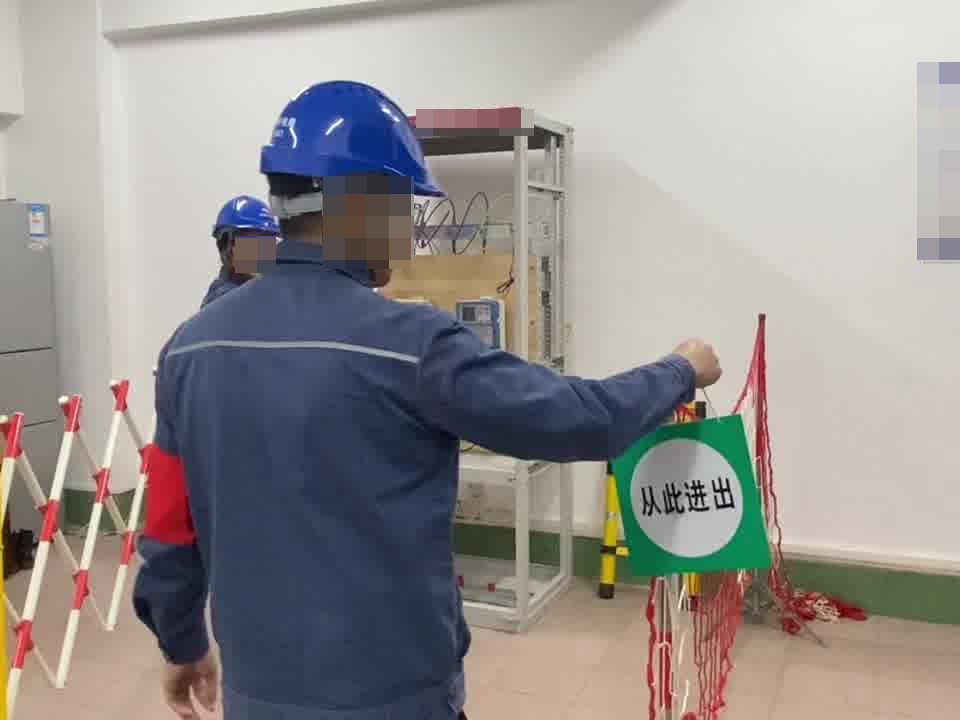badge: (136, 438, 197, 545)
halt: (254, 83, 447, 278), (209, 193, 283, 281)
hand: (162, 648, 220, 720), (676, 336, 725, 393)
inear: (321, 176, 401, 259), (217, 232, 239, 267)
intosign: (611, 413, 777, 578)
person: (130, 78, 728, 719), (205, 192, 286, 313)
upsuit: (130, 245, 699, 716)
